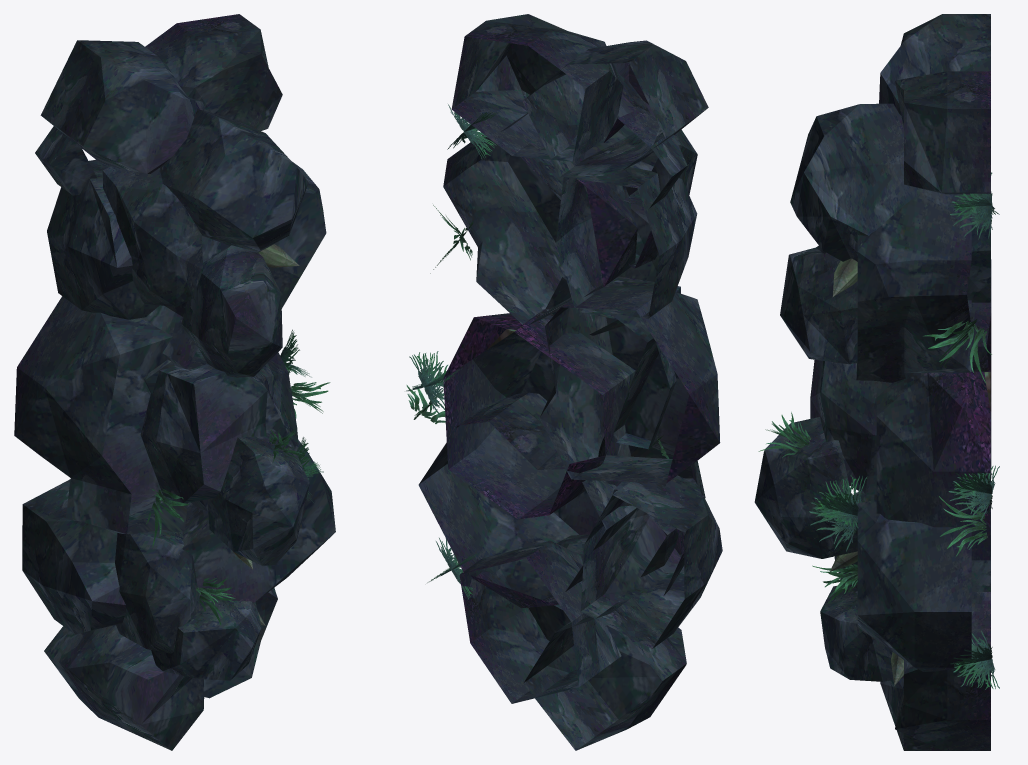
Rendered from mori_fuben_02_stone05.obj.
3 renders of one model, left to right at view 1: azimuth 30°, elevation 25°; view 2: azimuth 150°, elevation 25°; view 3: azimuth 270°, elevation 25°, orthographic. The views are drawn at different scales.
Visible parts, largest first — view 1: mori_fuben_02_xe01; view 2: mori_fuben_02_xe01; view 3: mori_fuben_02_xe01.
Part boxes in pixels (<box>): mori_fuben_02_xe01: <box>14,14,335,750</box>; mori_fuben_02_xe01: <box>406,14,722,750</box>; mori_fuben_02_xe01: <box>754,14,999,750</box>.
Bounding box in the file's own units: 317 × 639 × 214.
2 materials, 2 textured.
